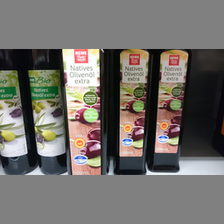oil: (61, 49, 108, 174), (26, 49, 68, 174), (111, 49, 152, 175), (150, 49, 190, 173), (1, 49, 37, 174)
